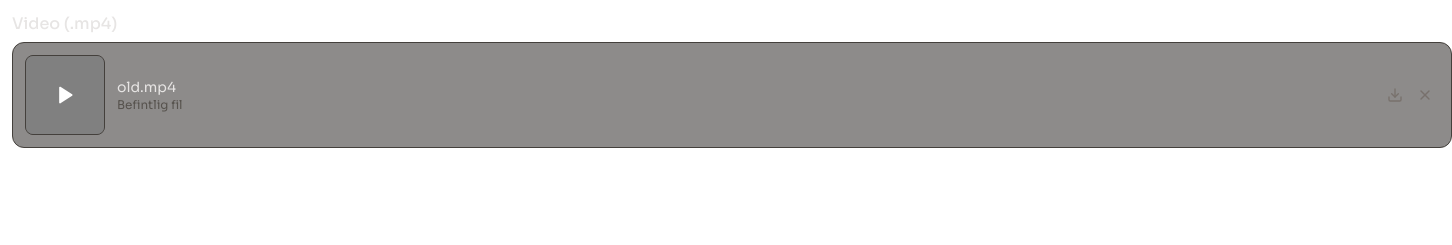
Test: MediaUpload › clears file on remove button click
Expected: the text "old.mp4" is shown, top-left (117, 78), bottom-right (176, 96)
Click the button named "Ta bort fil". click: (1425, 95)
box: top-left (1411, 81), bottom-right (1439, 109)
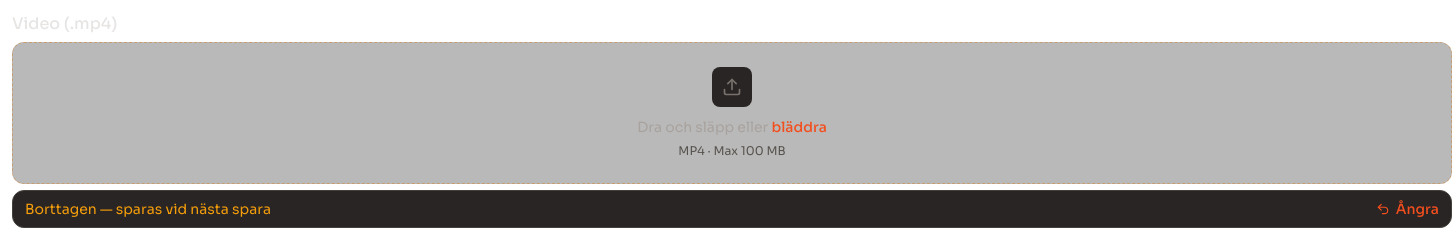
Expected: the text "old.mp4" is gone
